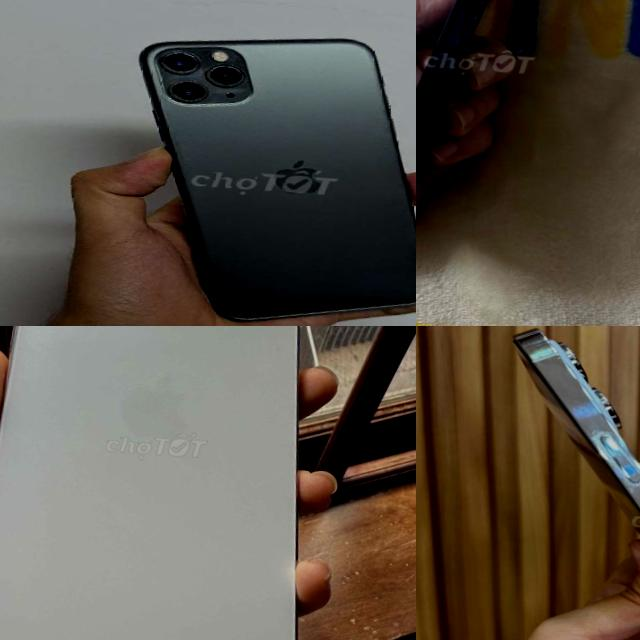scratch: (435, 0, 491, 100)
